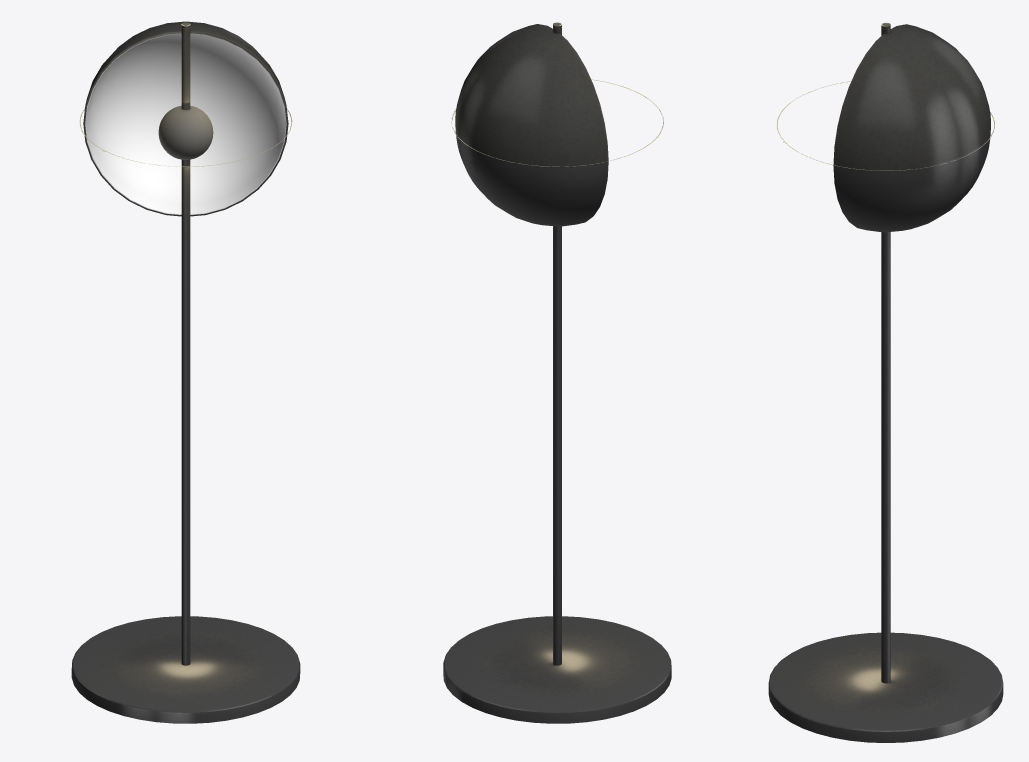
The model's file is raw_model.obj.
The picture shows the model from 3 angles, left to right: view 1: azimuth 30°, elevation 25°; view 2: azimuth 150°, elevation 25°; view 3: azimuth 270°, elevation 25°; orthographic projection. The views are drawn at different scales.
Visible parts, largest first — view 1: solid_001, solid_004, solid_002; view 2: solid_001; view 3: solid_001.
Boxes of the visible parts, left/top/right/bottom form: solid_001: left=71, top=21, right=300, bottom=723; solid_004: left=85, top=33, right=286, bottom=214; solid_002: left=158, top=105, right=213, bottom=159; solid_001: left=443, top=24, right=671, bottom=723; solid_001: left=768, top=24, right=1003, bottom=742.
Bounding box in the file's own units: 0.4606 × 1.32 × 0.4606.
Materials: 1 (1 with a texture image).
